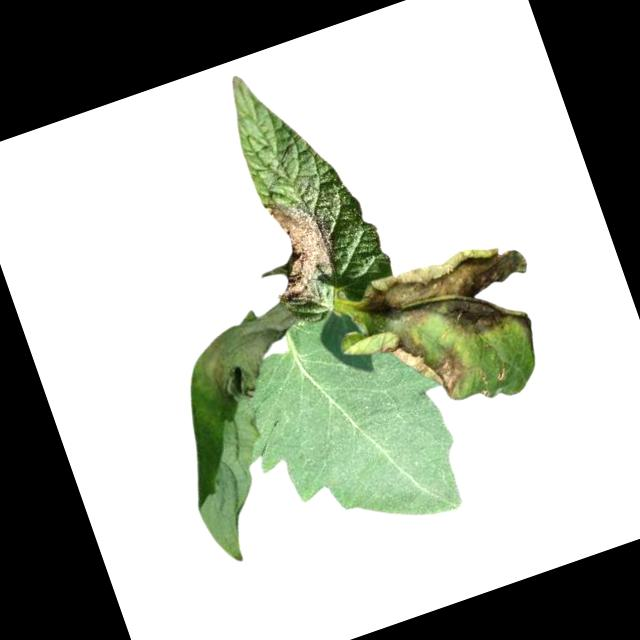Late_blight: (353, 230, 550, 383), (184, 301, 313, 411), (246, 187, 348, 312), (382, 311, 475, 414)
healthy: (227, 286, 481, 563)
